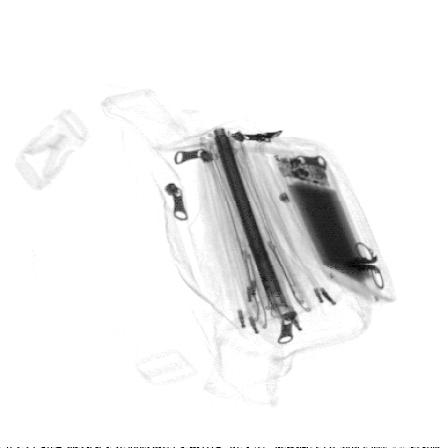Powerbank: (267, 151, 389, 304)
Scissors: (331, 242, 385, 289)
